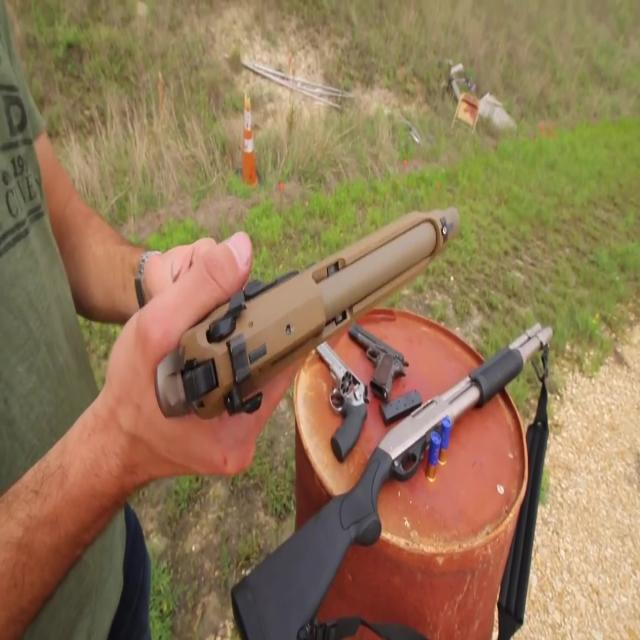Weapon: (145, 161, 569, 640)
